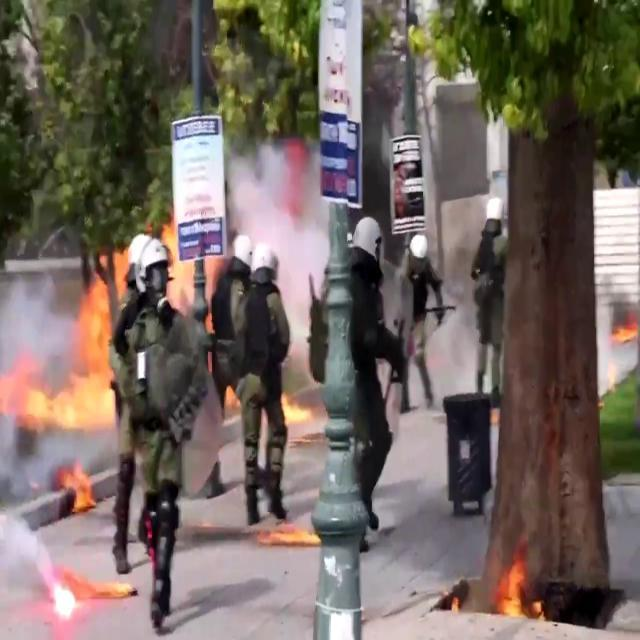Fire: (0, 272, 122, 435)
Smoke: (227, 118, 340, 294)
